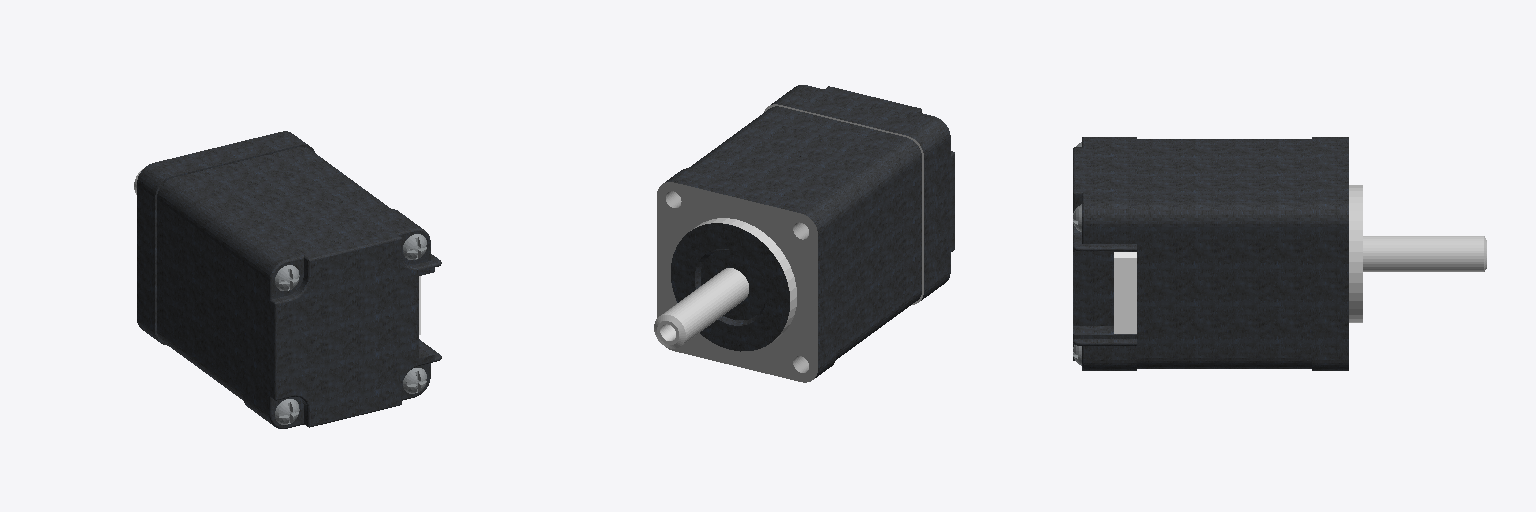
The picture shows the model from 3 angles: view 1: azimuth 30°, elevation 25°; view 2: azimuth 150°, elevation 25°; view 3: azimuth 270°, elevation 25°; orthographic projection.
Visible parts, largest first — view 1: Nema8-GRP-Group_21-34368-Material12, Nema8-GRP-Group_1-34350-Material12, Nema8-GRP-Group_3-34352-Material12, Nema8-GRP-Group_8-34354-Material12, Nema8-GRP-Group_5-34349-Material12, Nema8-GRP-Group_13-34363-Material12, Nema8-GRP-Group_11-34357-Material12, Nema8-GRP-Group_15-34359-Material12, Nema8-GRP-Group_10-34358-Material12, Nema8-GRP-Group_16-34360-Material12, Nema8-GRP-Group_18-34365-Material12, Nema8-GRP-Group_19-34366-Material12 (+9 smaller); view 2: Nema8-GRP-Group_1-34350-Material12, Nema8-GRP-Group_1-34350-Material10, Nema8-GRP-Group_21-34368-Material12, Nema8-GRP-Group_1-34350-Material9, Nema8-GRP-Group_6-34361-Material12, Nema8-GRP-Group_19-34366-Material12, Nema8-GRP-Group_10-34358-Material12, Nema8-GRP-Group_18-34365-Material12, Nema8-GRP-Group_11-34357-Material12, Nema8-GRP-Group_15-34359-Material12, Nema8-GRP-Group_16-34360-Material12, Nema8-GRP-Group_13-34363-Material12 (+12 smaller); view 3: Nema8-GRP-Group_21-34368-Material12, Nema8-GRP-Group_1-34350-Material12, Nema8-GRP-Group_1-34350-Material9, Nema8-GRP-Group_3-34352-Material12, Nema8-GRP-Group_8-34354-Material12, Nema8-GRP-Group_12-34355-Material12, Nema8-GRP-Group_17-34362-Material12, Nema8-GRP-Group_2-34348-Material12, Nema8-GRP-Group_5-34349-Material12, Nema8-GRP-Group_4-34351-Material12, Nema8-GRP-Group_9-34353-Material12, Nema8-GRP-Group_7-34356-Material12 (+11 smaller).
Part boxes in pixels (bbox=[...]): Nema8-GRP-Group_21-34368-Material12: bbox=[243, 209, 441, 428]; Nema8-GRP-Group_1-34350-Material12: bbox=[137, 131, 314, 345]; Nema8-GRP-Group_3-34352-Material12: bbox=[235, 204, 390, 399]; Nema8-GRP-Group_8-34354-Material12: bbox=[212, 187, 367, 382]; Nema8-GRP-Group_5-34349-Material12: bbox=[226, 197, 382, 393]; Nema8-GRP-Group_13-34363-Material12: bbox=[189, 170, 343, 365]; Nema8-GRP-Group_11-34357-Material12: bbox=[198, 177, 353, 373]; Nema8-GRP-Group_15-34359-Material12: bbox=[180, 164, 334, 360]; Nema8-GRP-Group_10-34358-Material12: bbox=[203, 181, 357, 376]; Nema8-GRP-Group_16-34360-Material12: bbox=[175, 160, 330, 355]; Nema8-GRP-Group_18-34365-Material12: bbox=[166, 154, 322, 349]; Nema8-GRP-Group_19-34366-Material12: bbox=[161, 150, 316, 346]; Nema8-GRP-Group_1-34350-Material12: bbox=[665, 168, 835, 377]; Nema8-GRP-Group_1-34350-Material10: bbox=[657, 182, 817, 382]; Nema8-GRP-Group_21-34368-Material12: bbox=[771, 85, 954, 300]; Nema8-GRP-Group_1-34350-Material9: bbox=[654, 218, 796, 348]; Nema8-GRP-Group_6-34361-Material12: bbox=[749, 120, 903, 316]; Nema8-GRP-Group_19-34366-Material12: bbox=[689, 164, 843, 359]; Nema8-GRP-Group_10-34358-Material12: bbox=[730, 133, 885, 330]; Nema8-GRP-Group_18-34365-Material12: bbox=[693, 160, 848, 355]; Nema8-GRP-Group_11-34357-Material12: bbox=[726, 137, 880, 332]; Nema8-GRP-Group_15-34359-Material12: bbox=[707, 150, 862, 346]; Nema8-GRP-Group_16-34360-Material12: bbox=[701, 154, 857, 349]; Nema8-GRP-Group_13-34363-Material12: bbox=[718, 143, 871, 338]; Nema8-GRP-Group_21-34368-Material12: bbox=[1073, 137, 1136, 370]; Nema8-GRP-Group_1-34350-Material12: bbox=[1312, 137, 1348, 370]; Nema8-GRP-Group_1-34350-Material9: bbox=[1349, 185, 1486, 322]; Nema8-GRP-Group_3-34352-Material12: bbox=[1146, 139, 1155, 368]; Nema8-GRP-Group_8-34354-Material12: bbox=[1192, 139, 1201, 368]; Nema8-GRP-Group_12-34355-Material12: bbox=[1229, 139, 1238, 368]; Nema8-GRP-Group_17-34362-Material12: bbox=[1275, 139, 1284, 368]; Nema8-GRP-Group_2-34348-Material12: bbox=[1137, 139, 1145, 368]; Nema8-GRP-Group_5-34349-Material12: bbox=[1165, 139, 1173, 368]; Nema8-GRP-Group_4-34351-Material12: bbox=[1156, 139, 1164, 368]; Nema8-GRP-Group_9-34353-Material12: bbox=[1202, 139, 1210, 368]; Nema8-GRP-Group_7-34356-Material12: bbox=[1183, 139, 1191, 368].
Size of the model in its own units: 0.0212 by 0.0202 by 0.045.
5 materials, 1 textured.